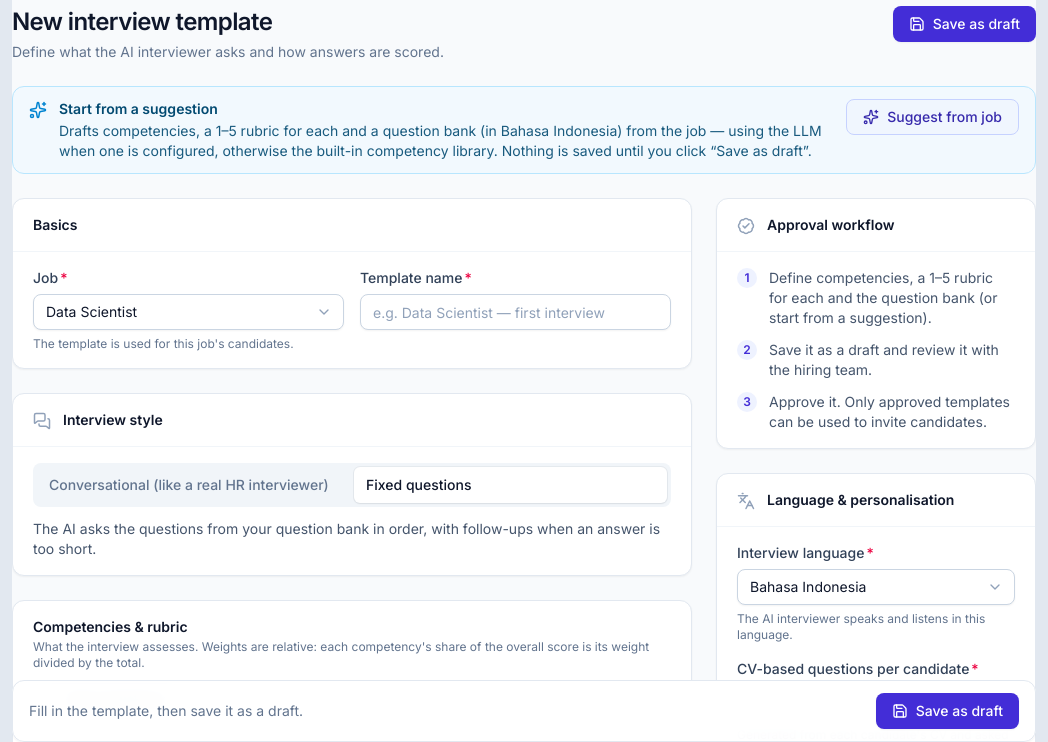
Test: TemplateEditorPage › blocks saving and shows field errors when required fields are missing
Click the button "Save as draft" in the row of "New interview template": x=964, y=24 [893, 6, 1036, 42]
(page scrolled)
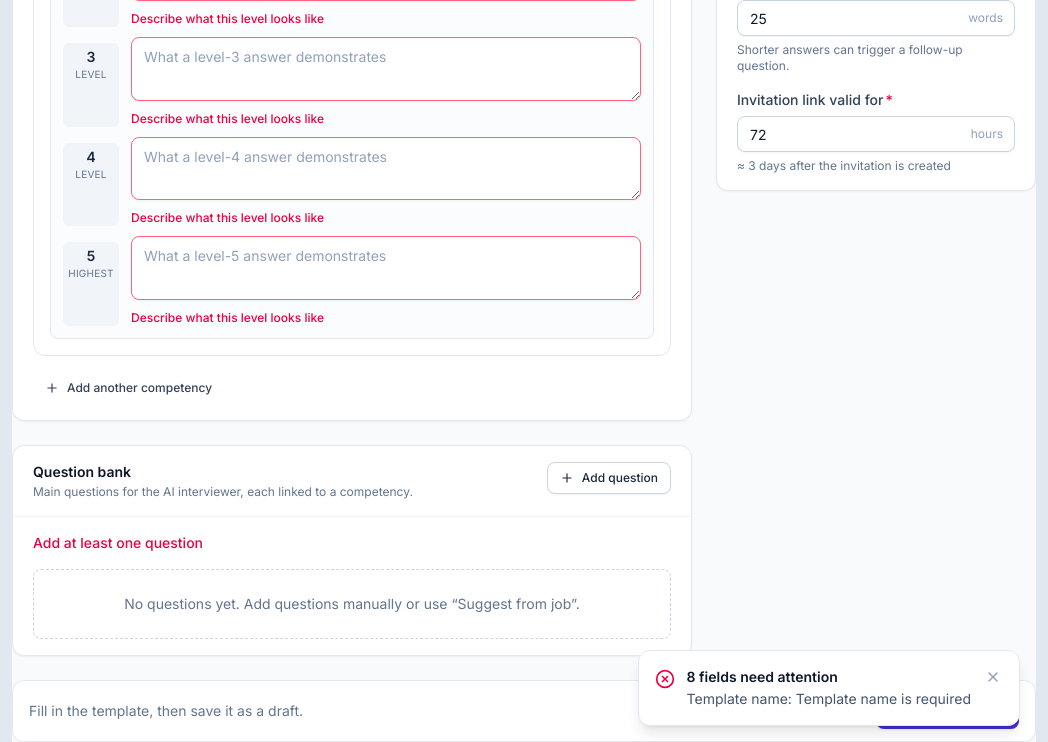
Expected: the text "Add at least one question" is shown, [33, 534, 203, 550]
